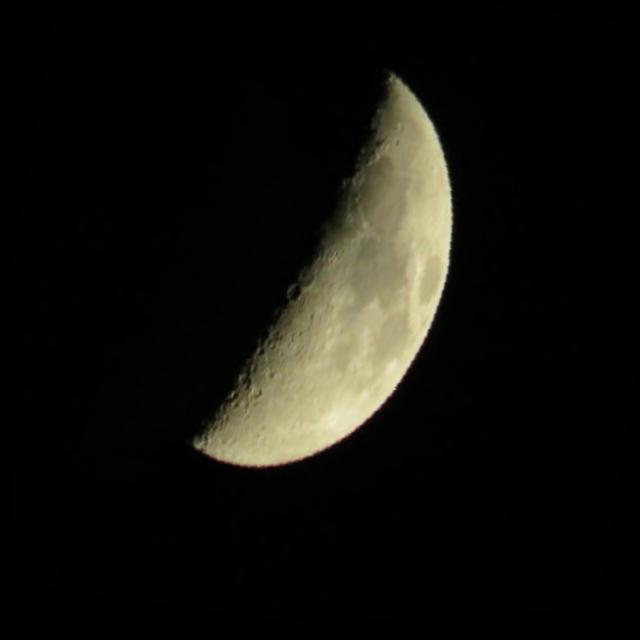moon: (96, 5, 508, 541)
